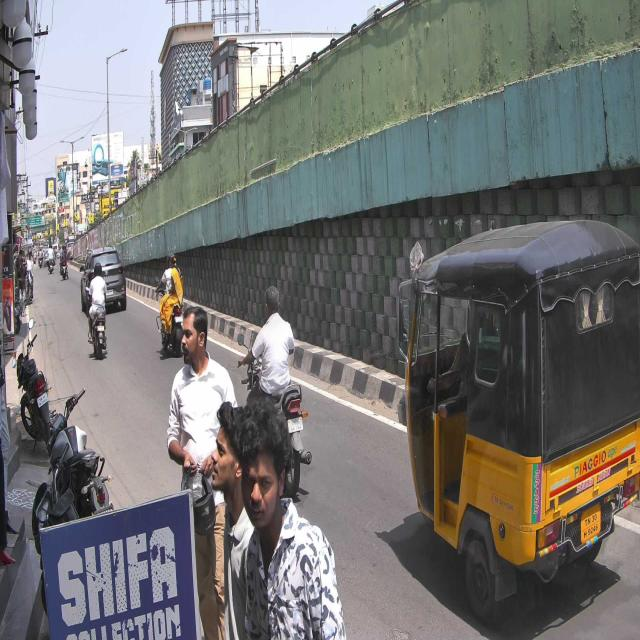single_rider: (236, 283, 312, 491)
